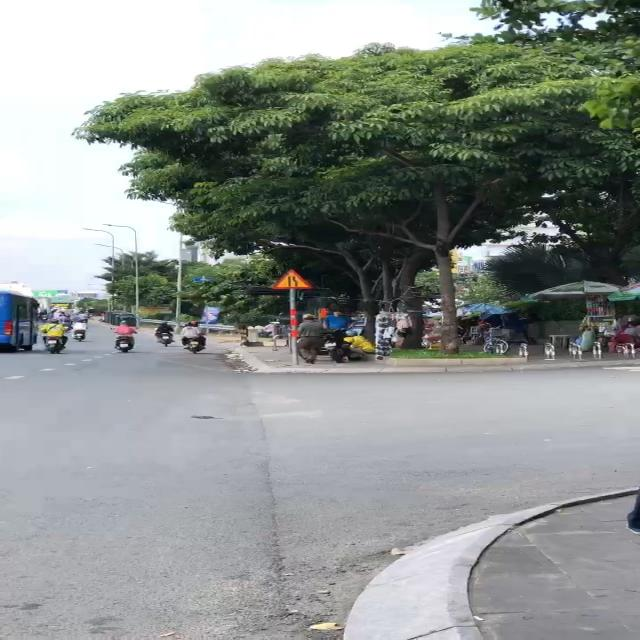Bien bao duong bi thu hep: (266, 266, 317, 292)
